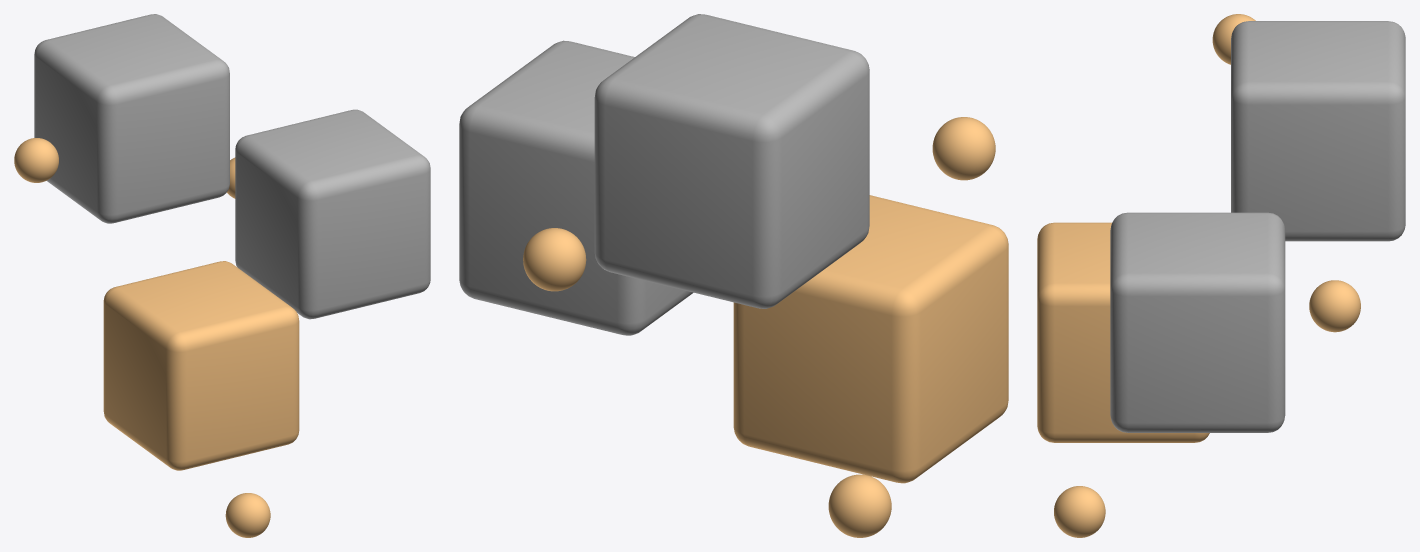
The model's file is floating-cubes-loading-animated-3d-icon-514489560289.glb.
3 views of the same model, side by side, from view 1: azimuth 30°, elevation 25°; view 2: azimuth 150°, elevation 25°; view 3: azimuth 270°, elevation 25° (orthographic). The views are drawn at different scales.
Parts seen in each view (by area): view 1: Cube.007, Cube.006, Cube.005, Sphere.001, Sphere.003; view 2: Cube.005, Cube.007, Cube.006, Sphere.001, Sphere.003, Sphere.002; view 3: Cube.006, Cube.005, Cube.007, Sphere.002, Sphere.003, Sphere.001.
Part boxes in pixels (bbox=[...]): Cube.007: bbox=[103, 261, 299, 470]; Cube.006: bbox=[235, 109, 430, 319]; Cube.005: bbox=[34, 14, 229, 223]; Sphere.001: bbox=[14, 138, 58, 182]; Sphere.003: bbox=[225, 493, 270, 537]; Cube.005: bbox=[594, 14, 869, 308]; Cube.007: bbox=[733, 195, 1008, 483]; Cube.006: bbox=[459, 40, 693, 335]; Sphere.001: bbox=[932, 117, 995, 180]; Sphere.003: bbox=[828, 474, 891, 537]; Sphere.002: bbox=[523, 228, 586, 291]; Cube.006: bbox=[1110, 212, 1285, 432]; Cube.005: bbox=[1231, 21, 1405, 241]; Cube.007: bbox=[1037, 222, 1209, 442]; Sphere.002: bbox=[1309, 280, 1360, 332]; Sphere.003: bbox=[1054, 486, 1105, 537]; Sphere.001: bbox=[1212, 14, 1255, 64].
Bounding box in the file's own units: 2.33 × 2.53 × 1.77.
